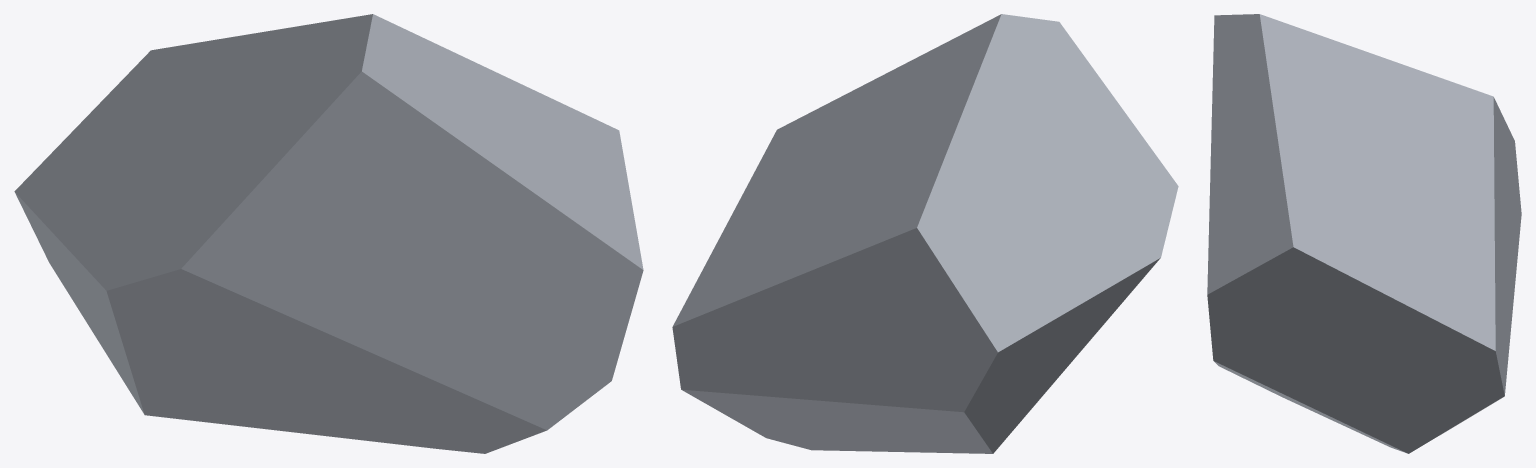
Rendered from Stone D.fbx.
3 views of the same model, side by side, from view 1: azimuth 30°, elevation 25°; view 2: azimuth 150°, elevation 25°; view 3: azimuth 270°, elevation 25° (orthographic). The views are drawn at different scales.
Parts seen in each view (by area): view 1: Stone D; view 2: Stone D; view 3: Stone D.
Boxes of the visible parts, box(x1,y1,x2,y2) form: Stone D: box(14, 14, 643, 453); Stone D: box(672, 14, 1178, 453); Stone D: box(1207, 14, 1521, 453).
Bounding box in the file's own units: 61.49 × 62.59 × 46.9.
